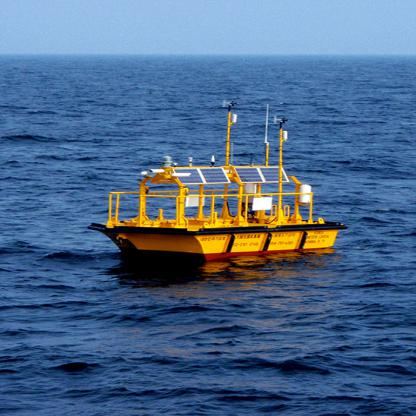buoy: (79, 91, 352, 277)
